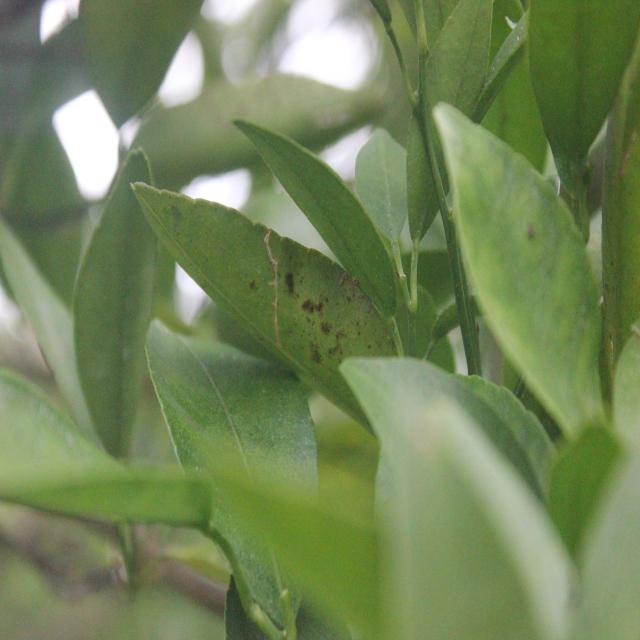melanose: (148, 166, 400, 406)
